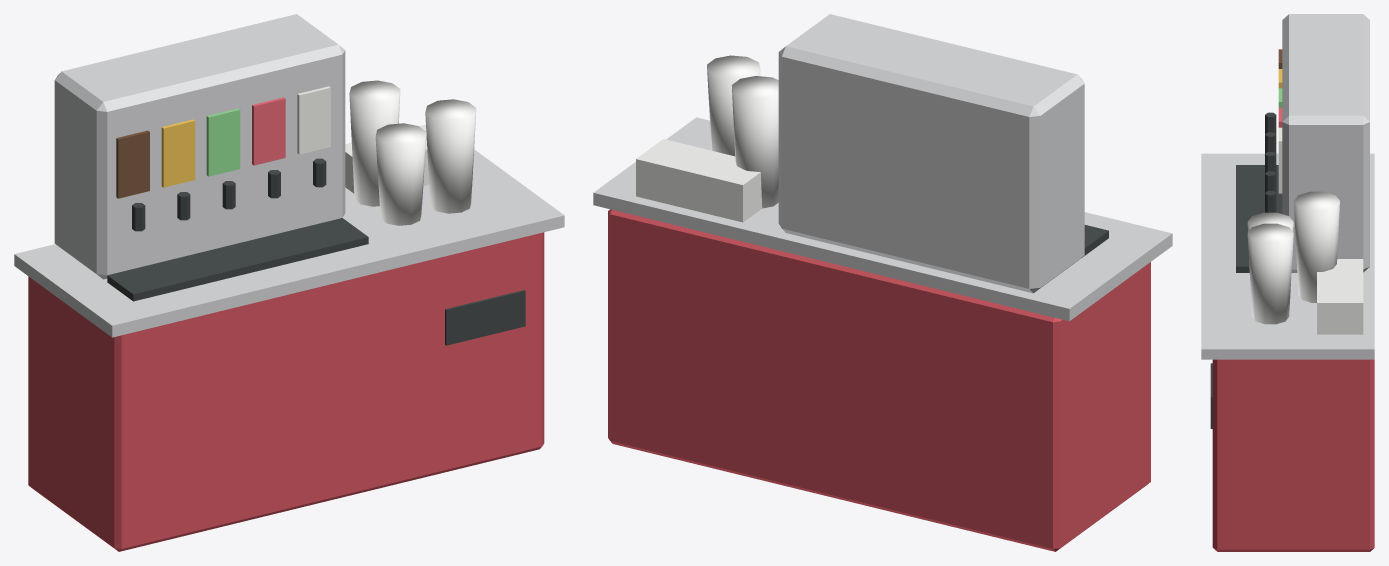
The model's file is drinks-chicken.glb.
3 renders of one model, left to right at view 1: azimuth 30°, elevation 25°; view 2: azimuth 150°, elevation 25°; view 3: azimuth 270°, elevation 25°, orthographic. The views are drawn at different scales.
Visible parts, largest first — view 1: drinks-chicken; view 2: drinks-chicken; view 3: drinks-chicken.
Part boxes in pixels (x1,y1,x2,y2): drinks-chicken: (14, 14, 564, 551); drinks-chicken: (593, 14, 1172, 551); drinks-chicken: (1201, 14, 1374, 551).
Bounding box in the file's own units: 2 × 1.75 × 0.75.
